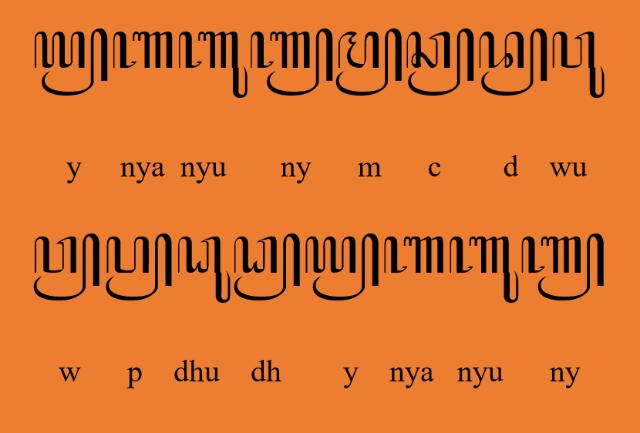-c: (406, 27, 474, 97)
-d: (479, 27, 549, 97)
-dh: (232, 232, 302, 302)
-m: (335, 28, 403, 95)
-ny: (248, 27, 334, 97), (521, 232, 605, 302)
-p: (105, 232, 173, 302)
-w: (32, 232, 100, 302)
-y: (304, 232, 380, 302), (34, 28, 108, 96)
dhu: (177, 235, 231, 304)
ny1: (112, 30, 174, 70), (384, 235, 446, 275)
nyu1: (448, 235, 520, 303), (178, 30, 248, 98)
wu: (552, 30, 606, 99)
